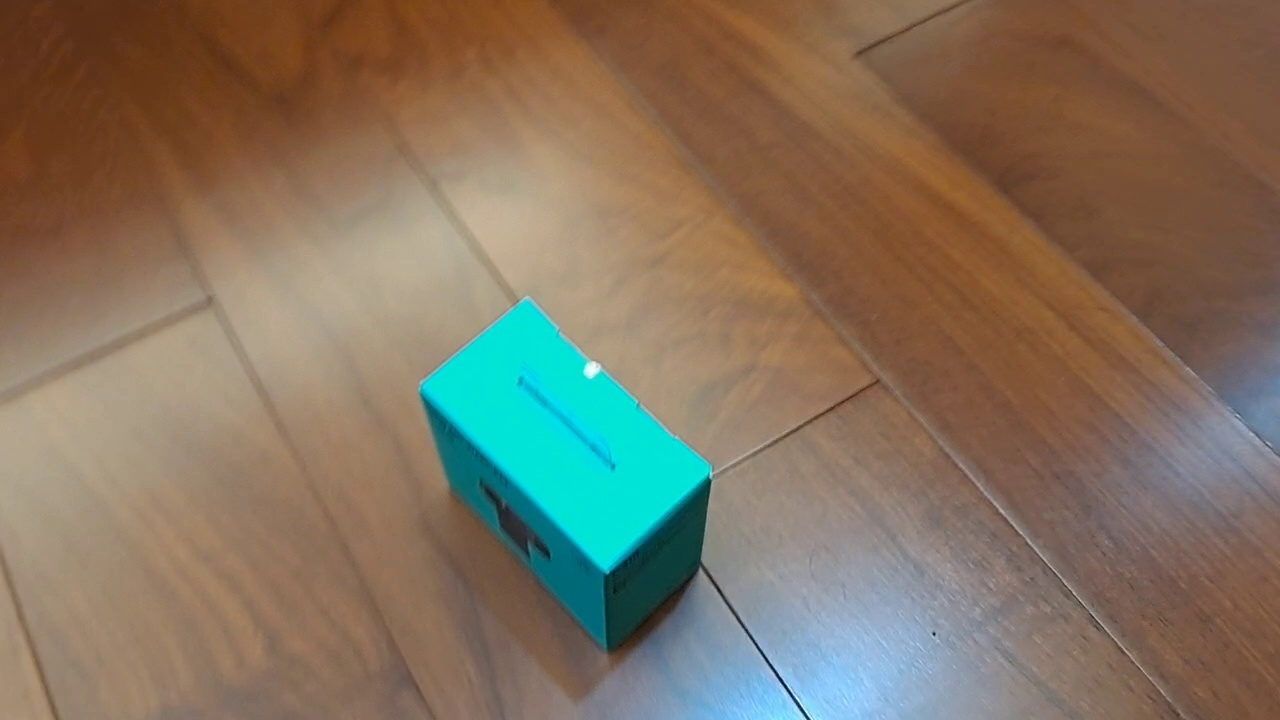webcam: (416, 294, 714, 656)
